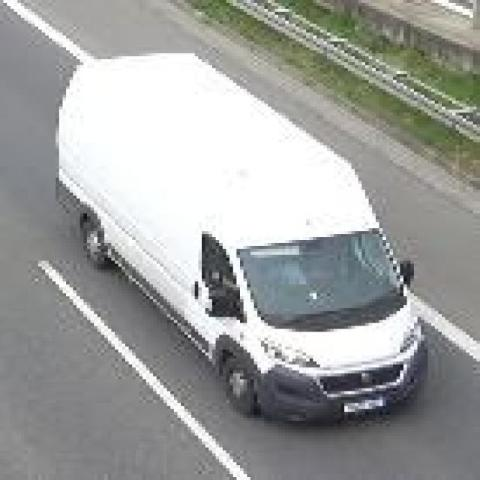van: (56, 53, 428, 418)
